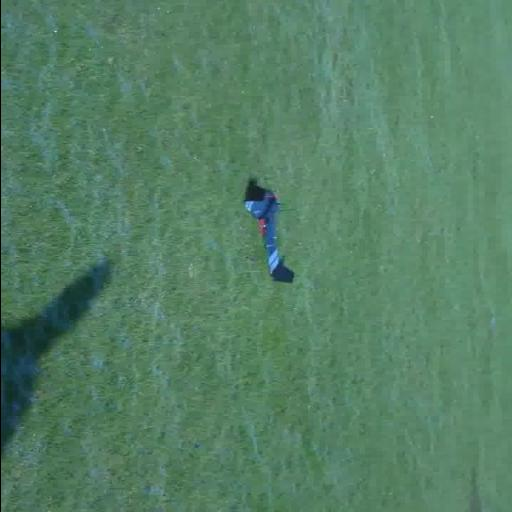uav: (230, 185, 306, 289)
